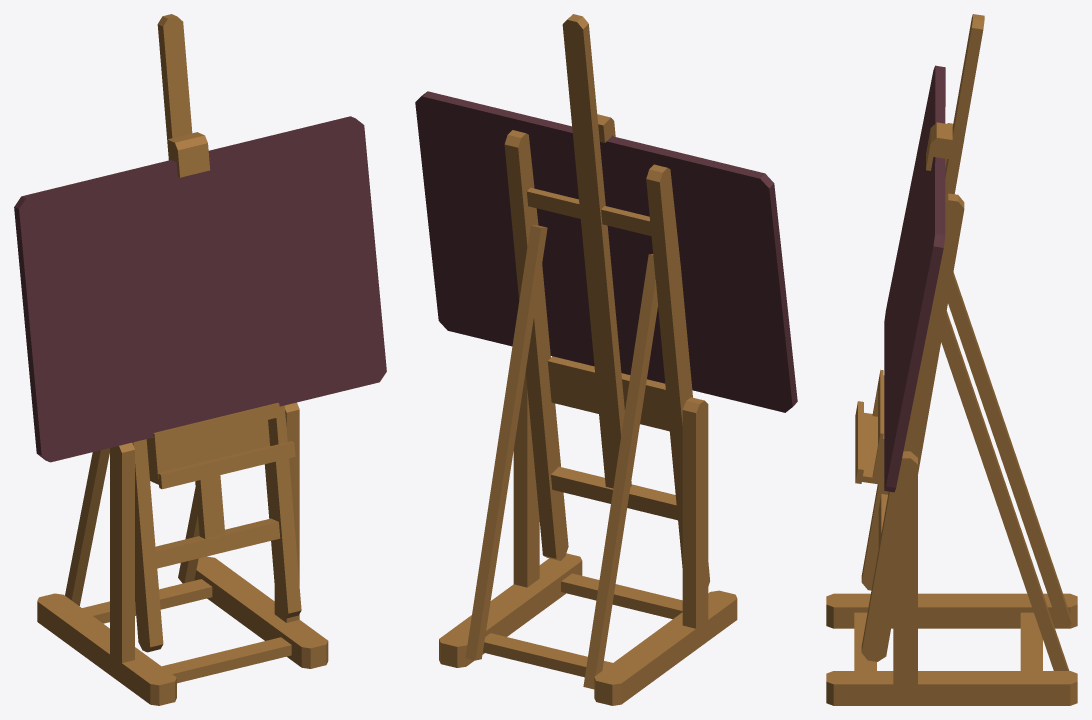
Rendered from stand-easel-canvas-horizontal-blank.fbx.
3 views of the same model, side by side, from view 1: azimuth 30°, elevation 25°; view 2: azimuth 150°, elevation 25°; view 3: azimuth 270°, elevation 25° (orthographic). The views are drawn at different scales.
Visible parts, largest first — view 1: stand-easel-canvas-horizontal-blank; view 2: stand-easel-canvas-horizontal-blank; view 3: stand-easel-canvas-horizontal-blank.
Boxes of the visible parts, x1=… form: stand-easel-canvas-horizontal-blank: x1=14, y1=14, x2=386, y2=705; stand-easel-canvas-horizontal-blank: x1=415, y1=14, x2=797, y2=705; stand-easel-canvas-horizontal-blank: x1=826, y1=14, x2=1077, y2=705.
Bounding box in the file's own units: 1.3 × 2.22 × 0.784.
